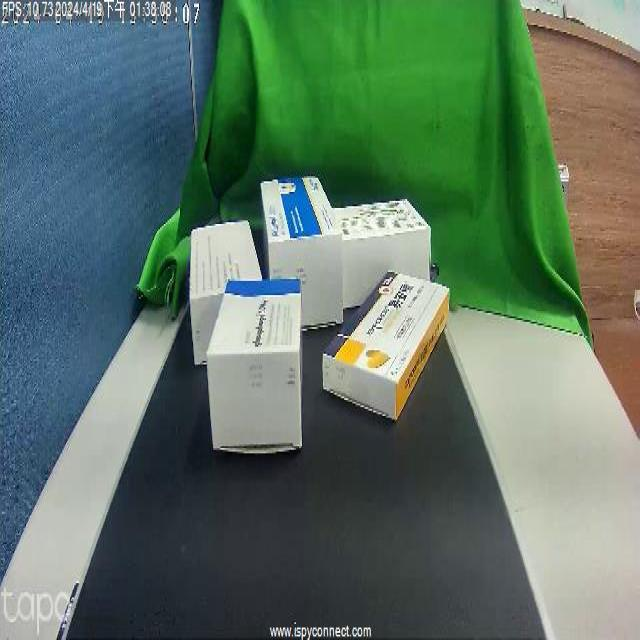box: (204, 282, 300, 474), (340, 274, 438, 426), (190, 214, 259, 325), (263, 172, 328, 278), (339, 198, 424, 272)
